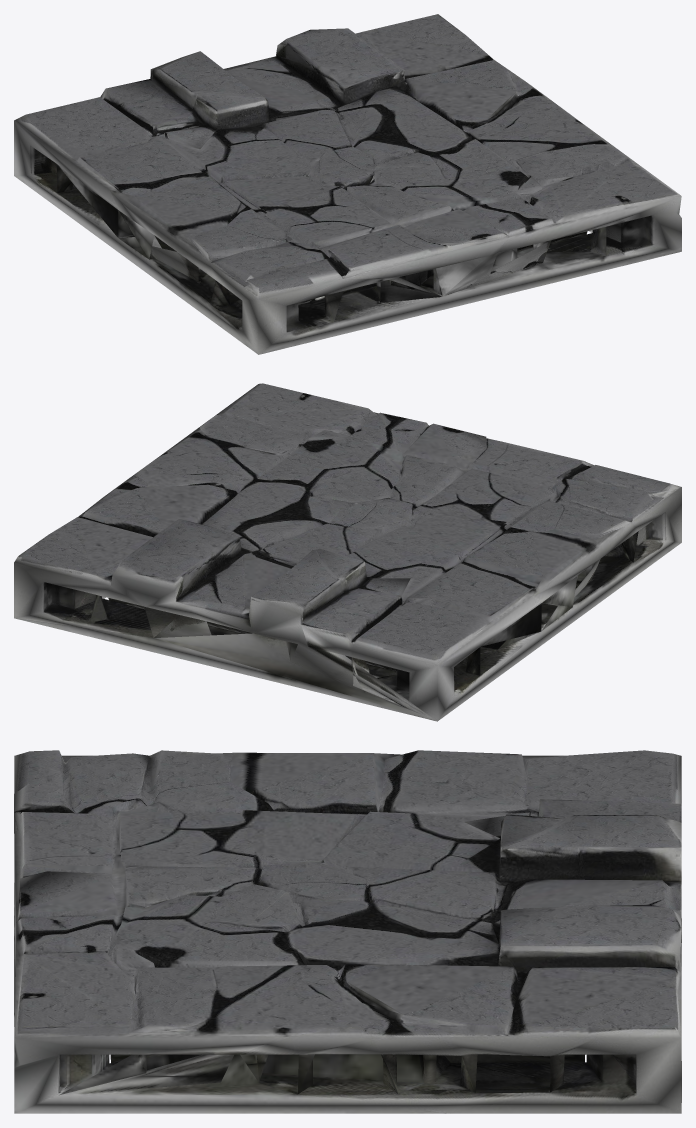
Rendered from prop-den-floor-c.glb.
3 views of the same model, one above another, from view 1: azimuth 30°, elevation 25°; view 2: azimuth 150°, elevation 25°; view 3: azimuth 270°, elevation 25° (orthographic). The views are drawn at different scales.
Bounding box in the file's own units: 2 × 0.3594 × 2.
Materials: 1 (1 with a texture image).
